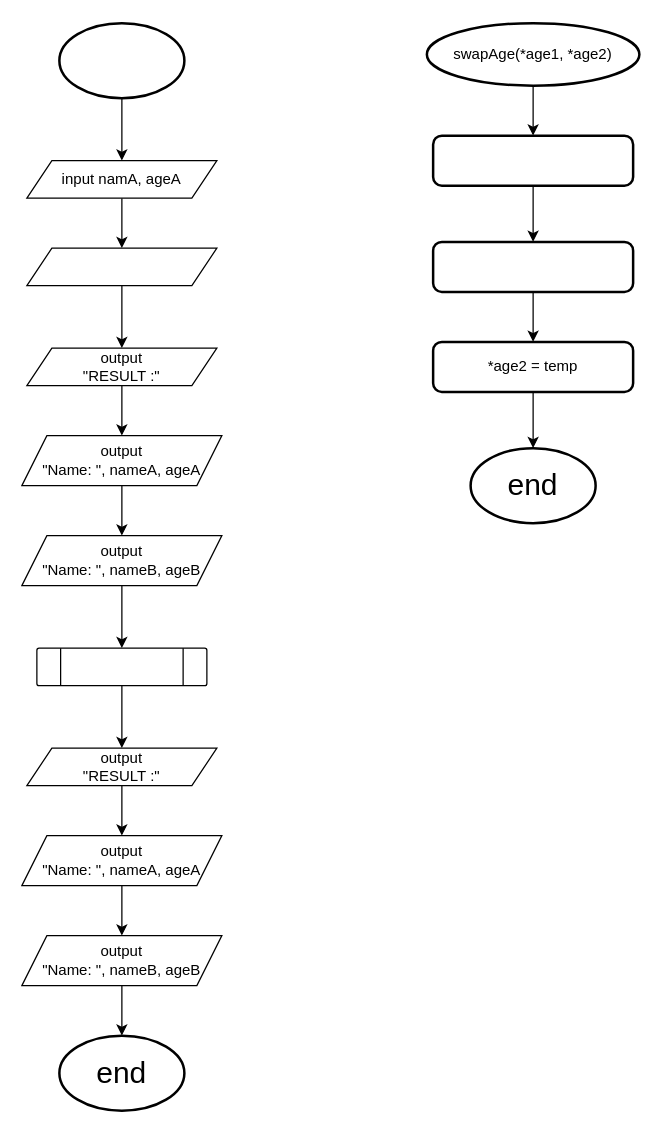
The diagram is 663 pixels wide and 1133 high, and some of its shapes have lost their labels. Here are the shapes that lost their labels. From the top down, the centre of each, then its label:
point (121, 60): start
point (532, 160): temp = *age1
point (121, 266): input namB, ageB
point (532, 266): *age1 = *age2
point (121, 666): swapAge(ageA, AgeB)
